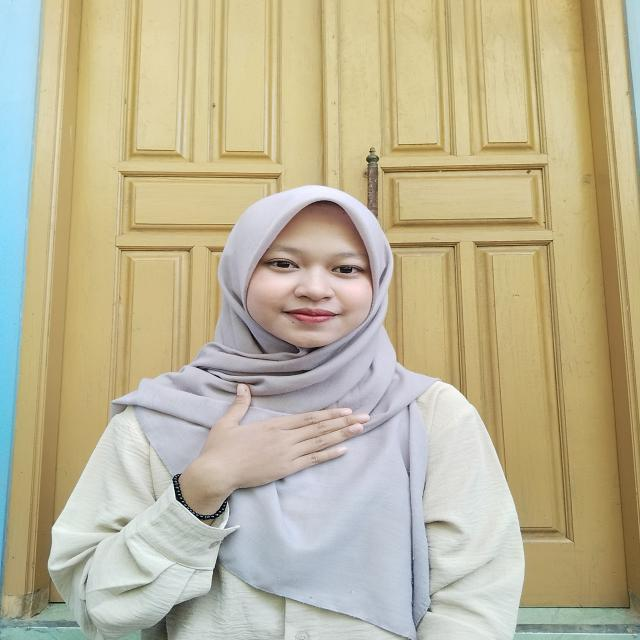tolong: (144, 378, 373, 516)
